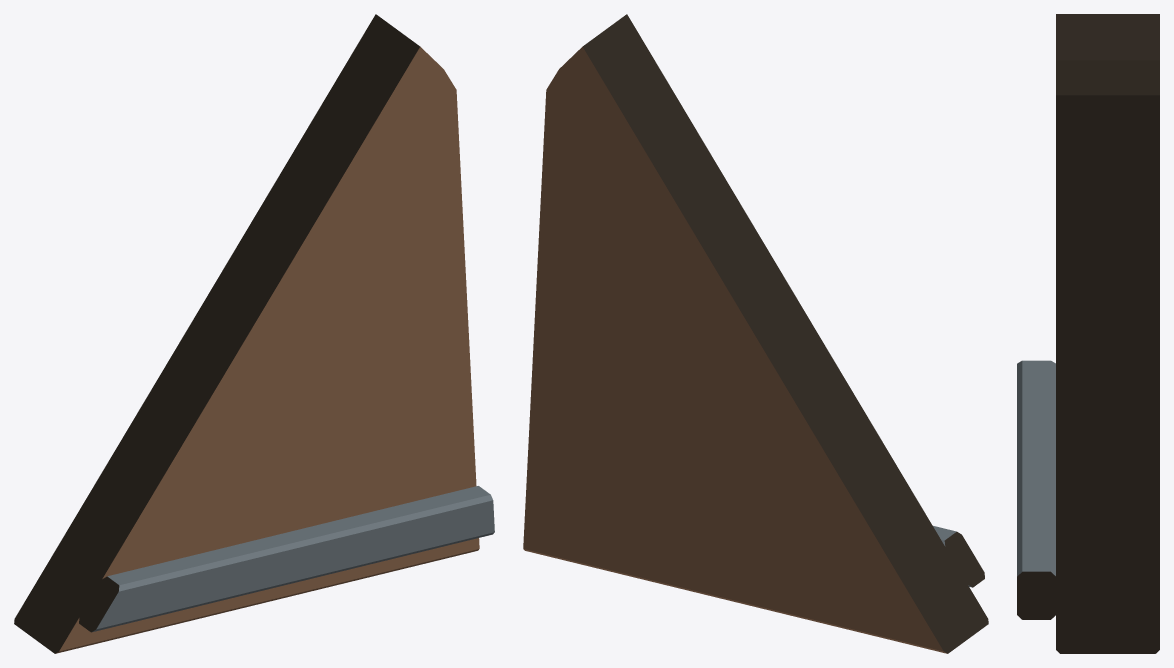
The model's file is SM_DoorShard_03_40.fbx.
The picture shows the model from 3 angles, left to right: view 1: azimuth 30°, elevation 25°; view 2: azimuth 150°, elevation 25°; view 3: azimuth 270°, elevation 25°; orthographic projection. The views are drawn at different scales.
Parts seen in each view (by area): view 1: SM_DoorShard_03_40; view 2: SM_DoorShard_03_40; view 3: SM_DoorShard_03_40.
Part boxes in pixels (x1,y1,x2,y2): SM_DoorShard_03_40: (14, 14, 494, 653); SM_DoorShard_03_40: (523, 14, 988, 653); SM_DoorShard_03_40: (1017, 14, 1159, 653).
Bounding box in the file's own units: 87.79 × 22 × 103.
